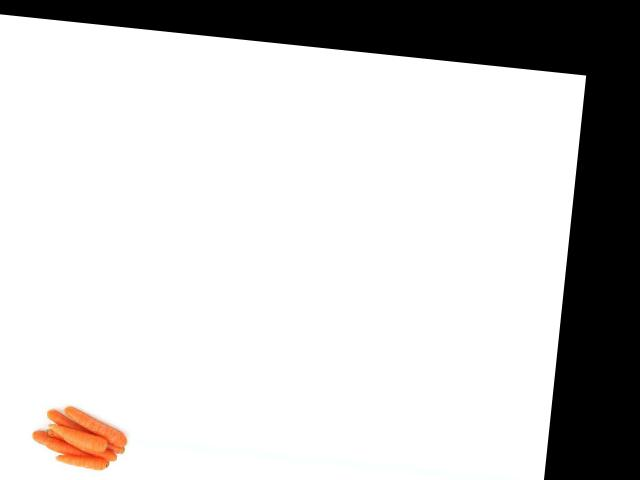carrot: (62, 404, 134, 450)
